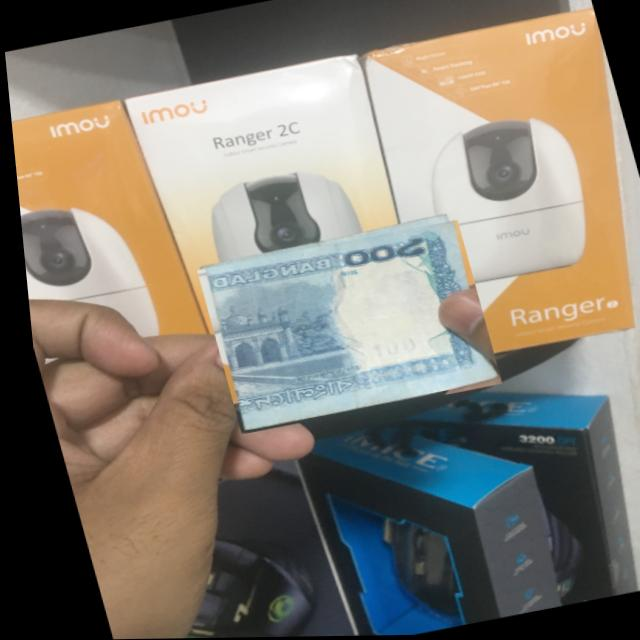Taka: (188, 220, 498, 435)
